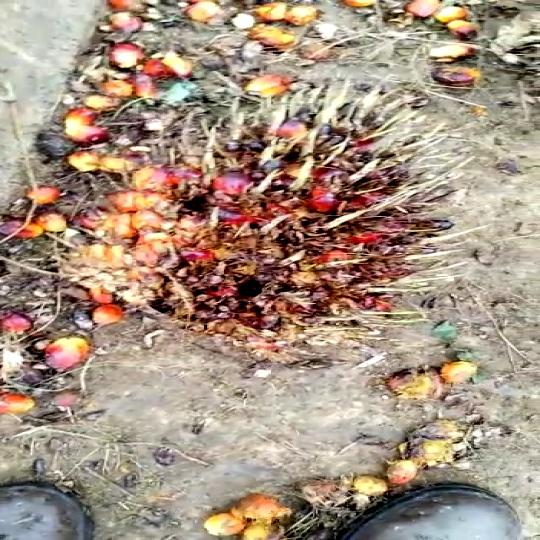terlalu masak: (1, 73, 484, 354)
